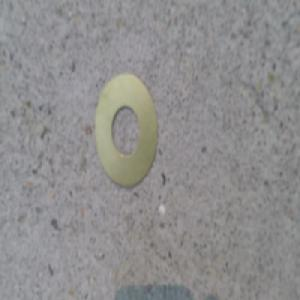Washer: (95, 70, 159, 193)
